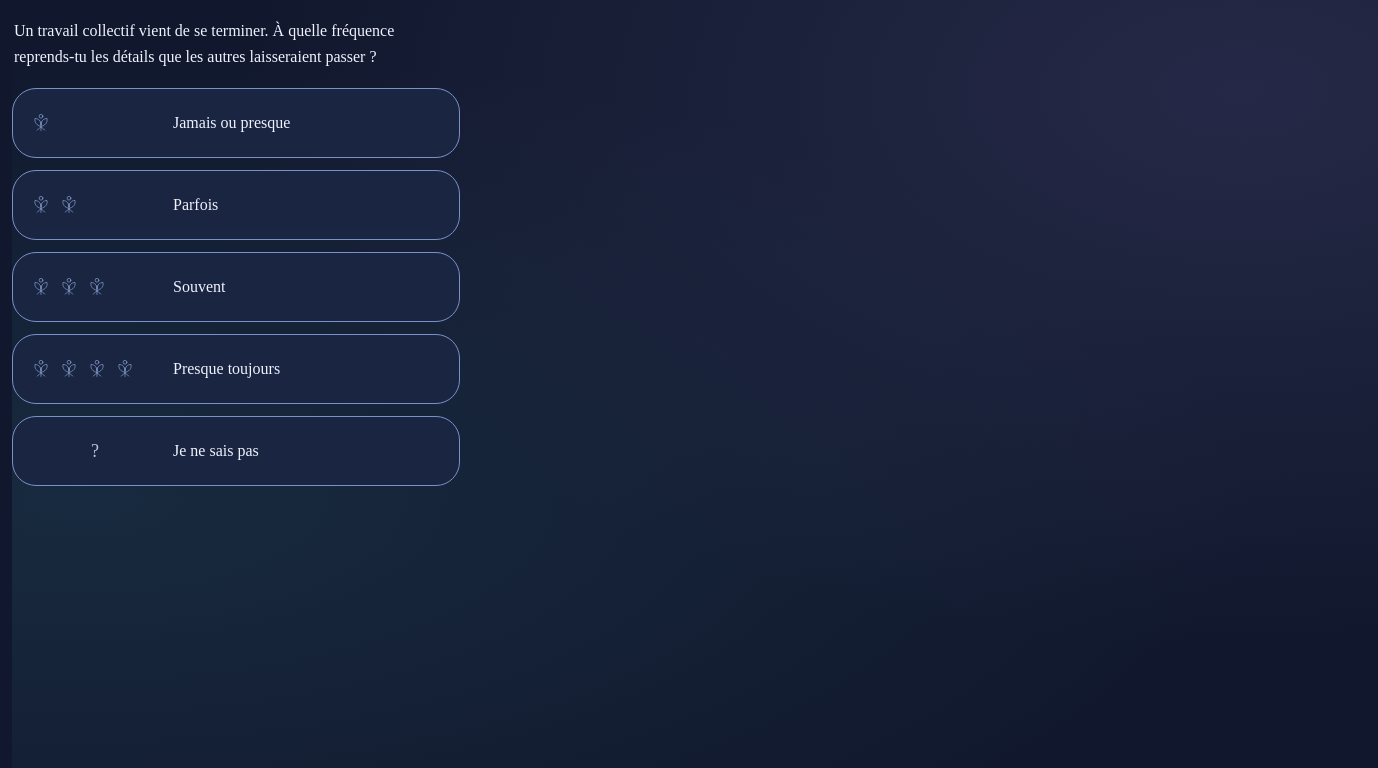
Test: [5.5/AC1] une question à la fois, reprise là où elle s’était arrêtée › « Je ne sais pas » persiste `null`, avance et ne devient jamais un zéro
What coordinates should you click on to do the following:
click the button "? Je ne sais pas"
I would click on:
 (236, 451)
Its box is [12, 416, 460, 486].
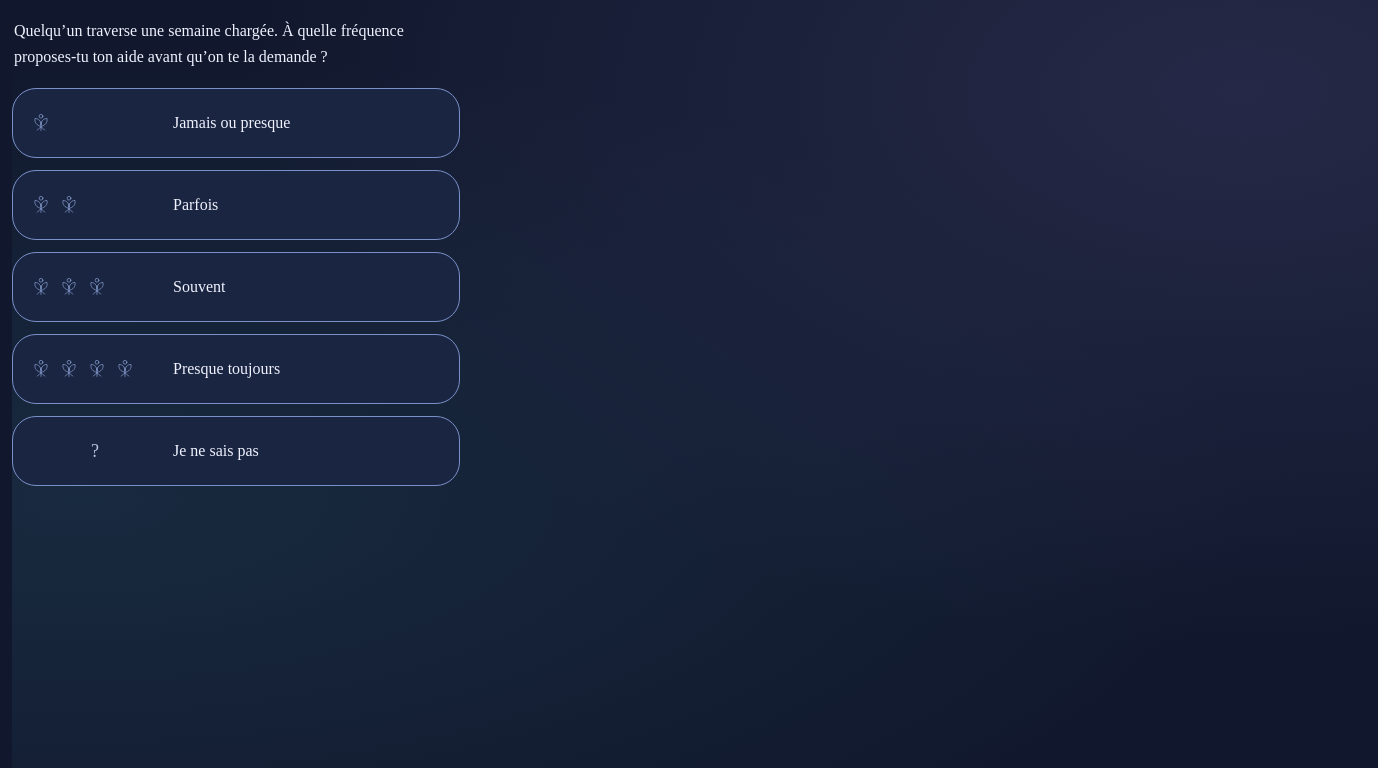
expect the text "Quelqu’un traverse une semaine chargée. À quelle fréquence proposes-tu ton aide avant qu’on te la demande ?" is shown: met, box [14, 22, 404, 65]
